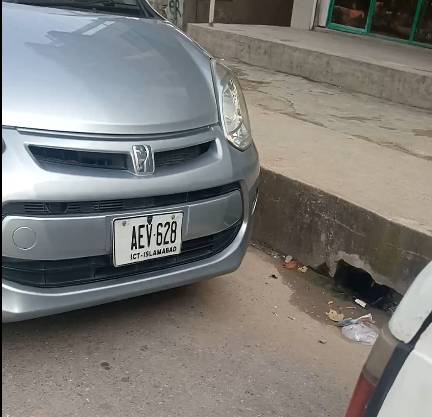number_plate: (110, 214, 183, 261)
